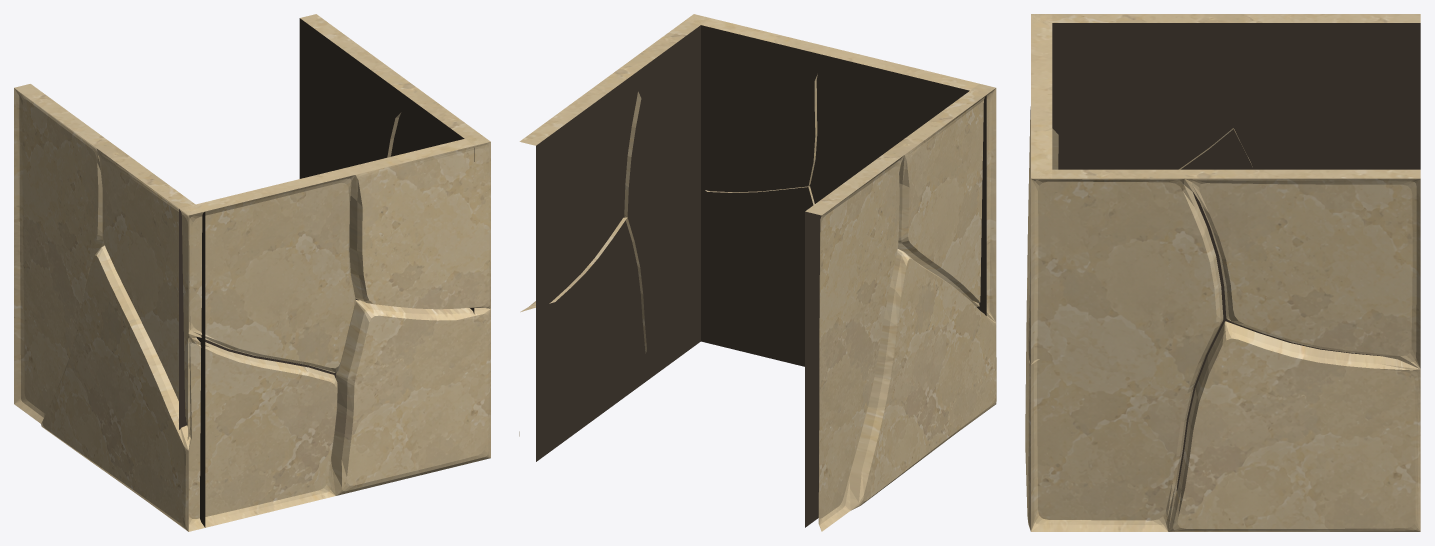
The model's file is ground_square_end_10.glb.
The picture shows the model from 3 angles, left to right: view 1: azimuth 30°, elevation 25°; view 2: azimuth 150°, elevation 25°; view 3: azimuth 270°, elevation 25°; orthographic projection. The views are drawn at different scales.
Visible parts, largest first — view 1: GroundSquareEnd10_Body; view 2: GroundSquareEnd10_Body; view 3: GroundSquareEnd10_Body.
Part boxes in pixels (box(x1,y1,x2,y2)): GroundSquareEnd10_Body: box(14, 14, 490, 531); GroundSquareEnd10_Body: box(519, 14, 996, 531); GroundSquareEnd10_Body: box(1025, 14, 1420, 531).
Bounding box in the file's own units: 1.03 × 1 × 1.01.
Materials: 12 (11 with a texture image).
